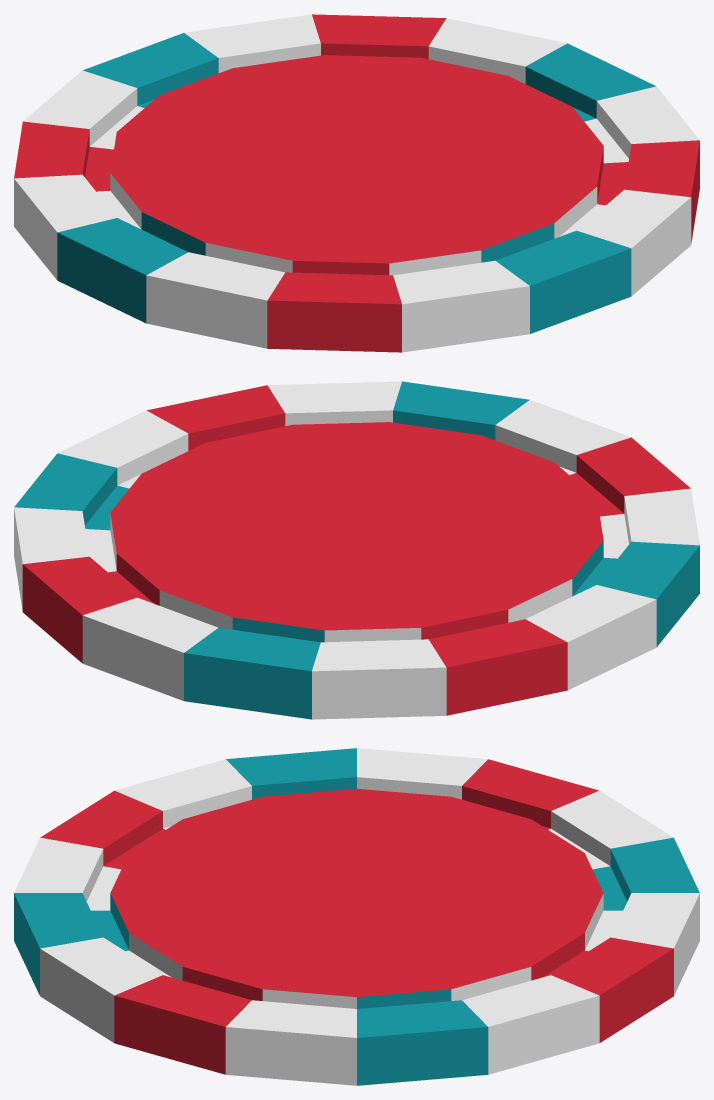
Rendered from FunkyChip.fbx.
3 views of the same model, one above another, from view 1: azimuth 30°, elevation 25°; view 2: azimuth 150°, elevation 25°; view 3: azimuth 270°, elevation 25° (orthographic).
Visible parts, largest first — view 1: Chip.006; view 2: Chip.006; view 3: Chip.006.
Boxes of the visible parts, x1=… form: Chip.006: x1=14, y1=14, x2=699, y2=352; Chip.006: x1=14, y1=381, x2=699, y2=719; Chip.006: x1=14, y1=748, x2=699, y2=1085.
Size of the model in its own units: 39 by 3.01 by 39.
